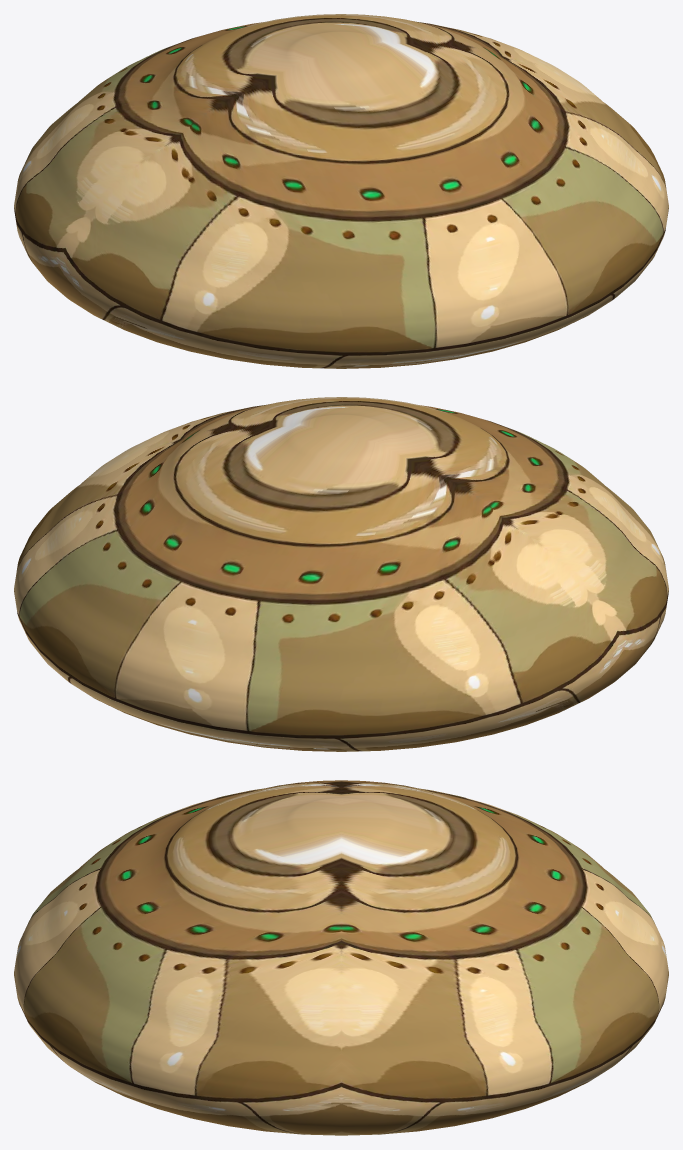
Rendered from central_dome.glb.
The picture shows the model from 3 angles, top to bottom: view 1: azimuth 30°, elevation 25°; view 2: azimuth 150°, elevation 25°; view 3: azimuth 270°, elevation 25°; orthographic projection.
Parts seen in each view (by area): view 1: central_dome; view 2: central_dome; view 3: central_dome.
Part boxes in pixels (<box>): central_dome: <box>14,14,668,368</box>; central_dome: <box>14,397,668,751</box>; central_dome: <box>14,780,668,1135</box>.
Bounding box in the file's own units: 0.9994 × 0.375 × 0.9994.
Materials: 1 (1 with a texture image).
